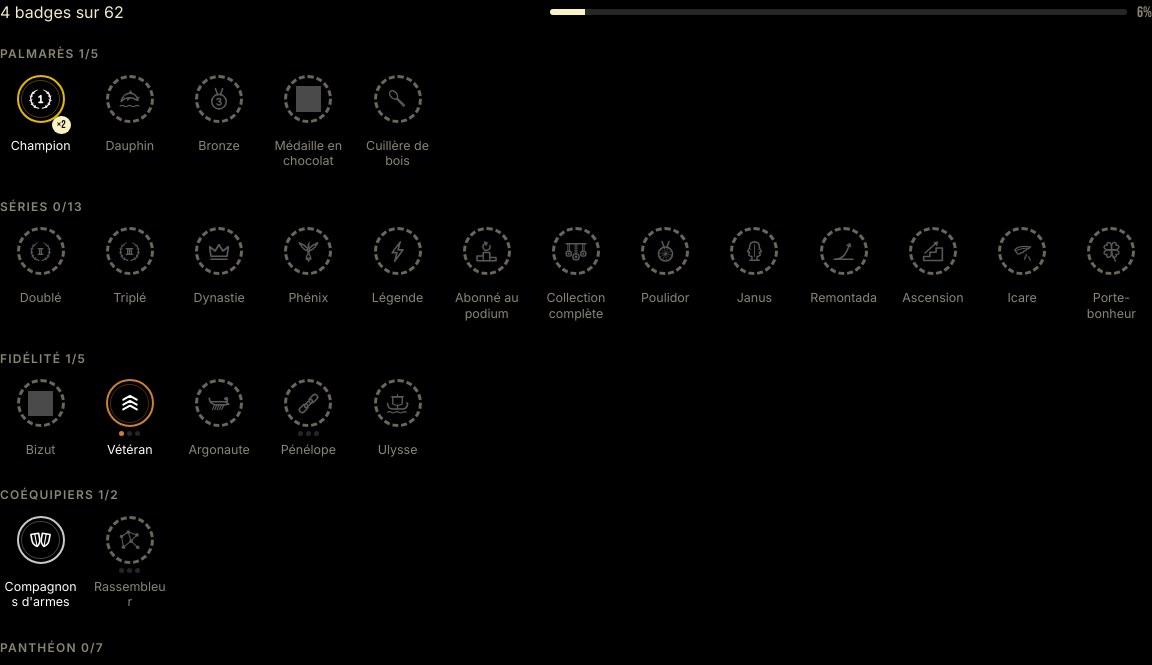
Test: BadgeCollection › speaks French
The width and height of the screenshot is (1152, 665).
Expected: the text "4 badges sur 62" is shown, [0, 2, 124, 22]
Expected: the heading named "Palmarès 1 sur 5" shows "1/5", [0, 46, 151, 61]
Click the button "Vétéran": (130, 419) [89, 375, 170, 462]
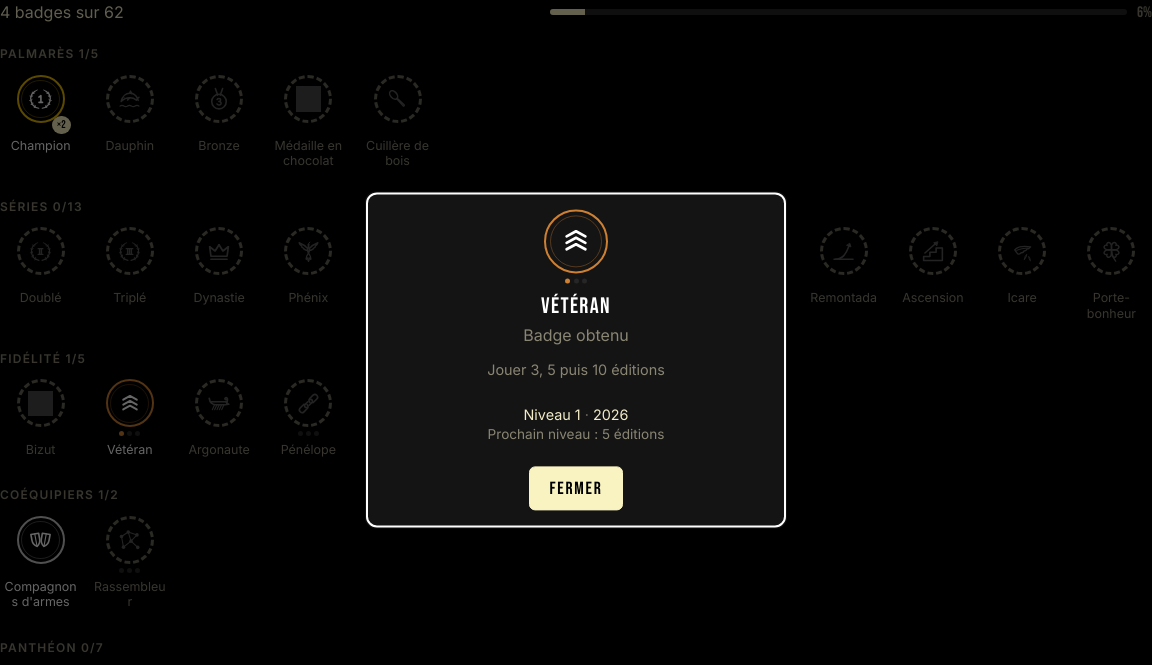
Now the dialog "Vétéran" shows "Prochain niveau : 5 éditions", box [488, 427, 664, 443]
